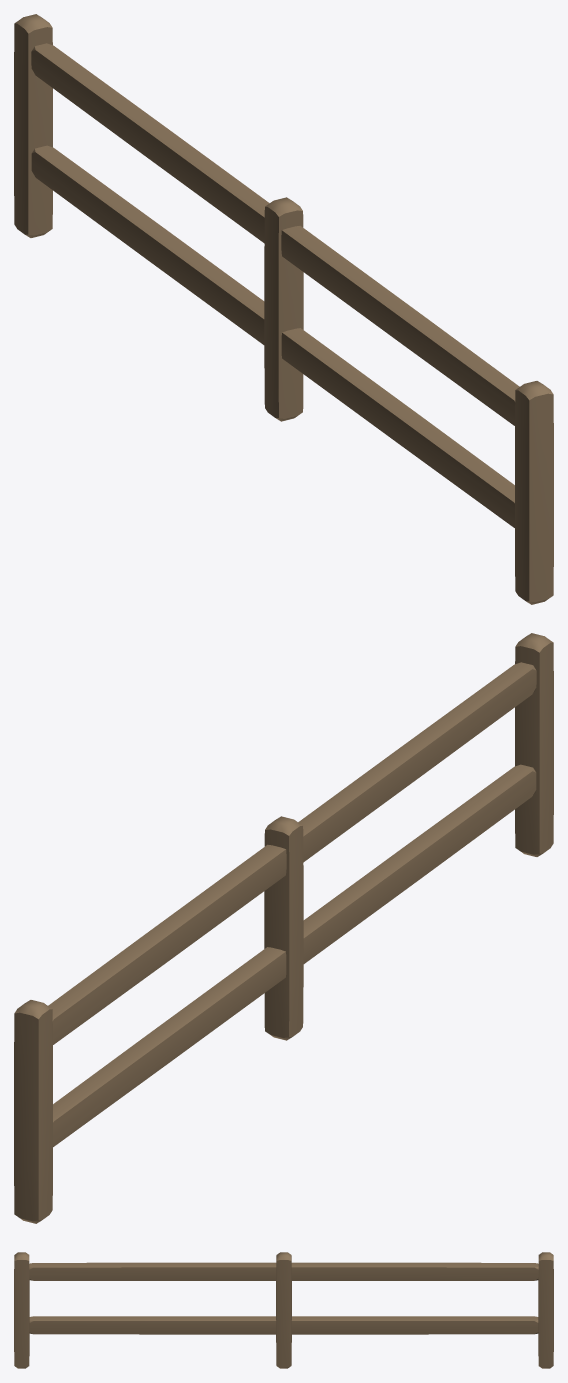
Rendered from wooden_fence_section_4m.glb.
The picture shows the model from 3 angles, top to bottom: view 1: azimuth 30°, elevation 25°; view 2: azimuth 150°, elevation 25°; view 3: azimuth 270°, elevation 25°; orthographic projection. The views are drawn at different scales.
Parts seen in each view (by area): view 1: static_wood; view 2: static_wood; view 3: static_wood.
Boxes of the visible parts, bbox=[...] form: static_wood: bbox=[14, 14, 553, 604]; static_wood: bbox=[14, 633, 553, 1223]; static_wood: bbox=[14, 1252, 553, 1368].
Size of the model in its own units: 0.12 by 0.95 by 4.12.
